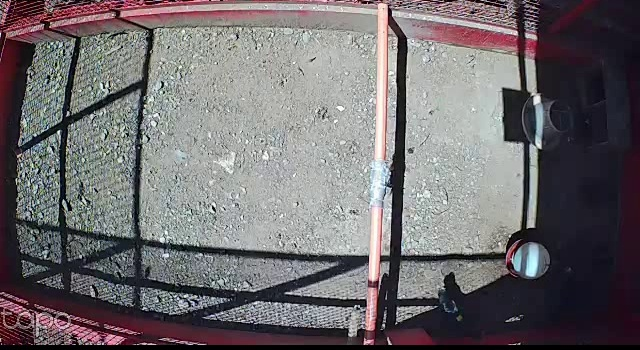Drinker: (501, 239, 552, 281)
Feeder: (520, 88, 578, 156)
